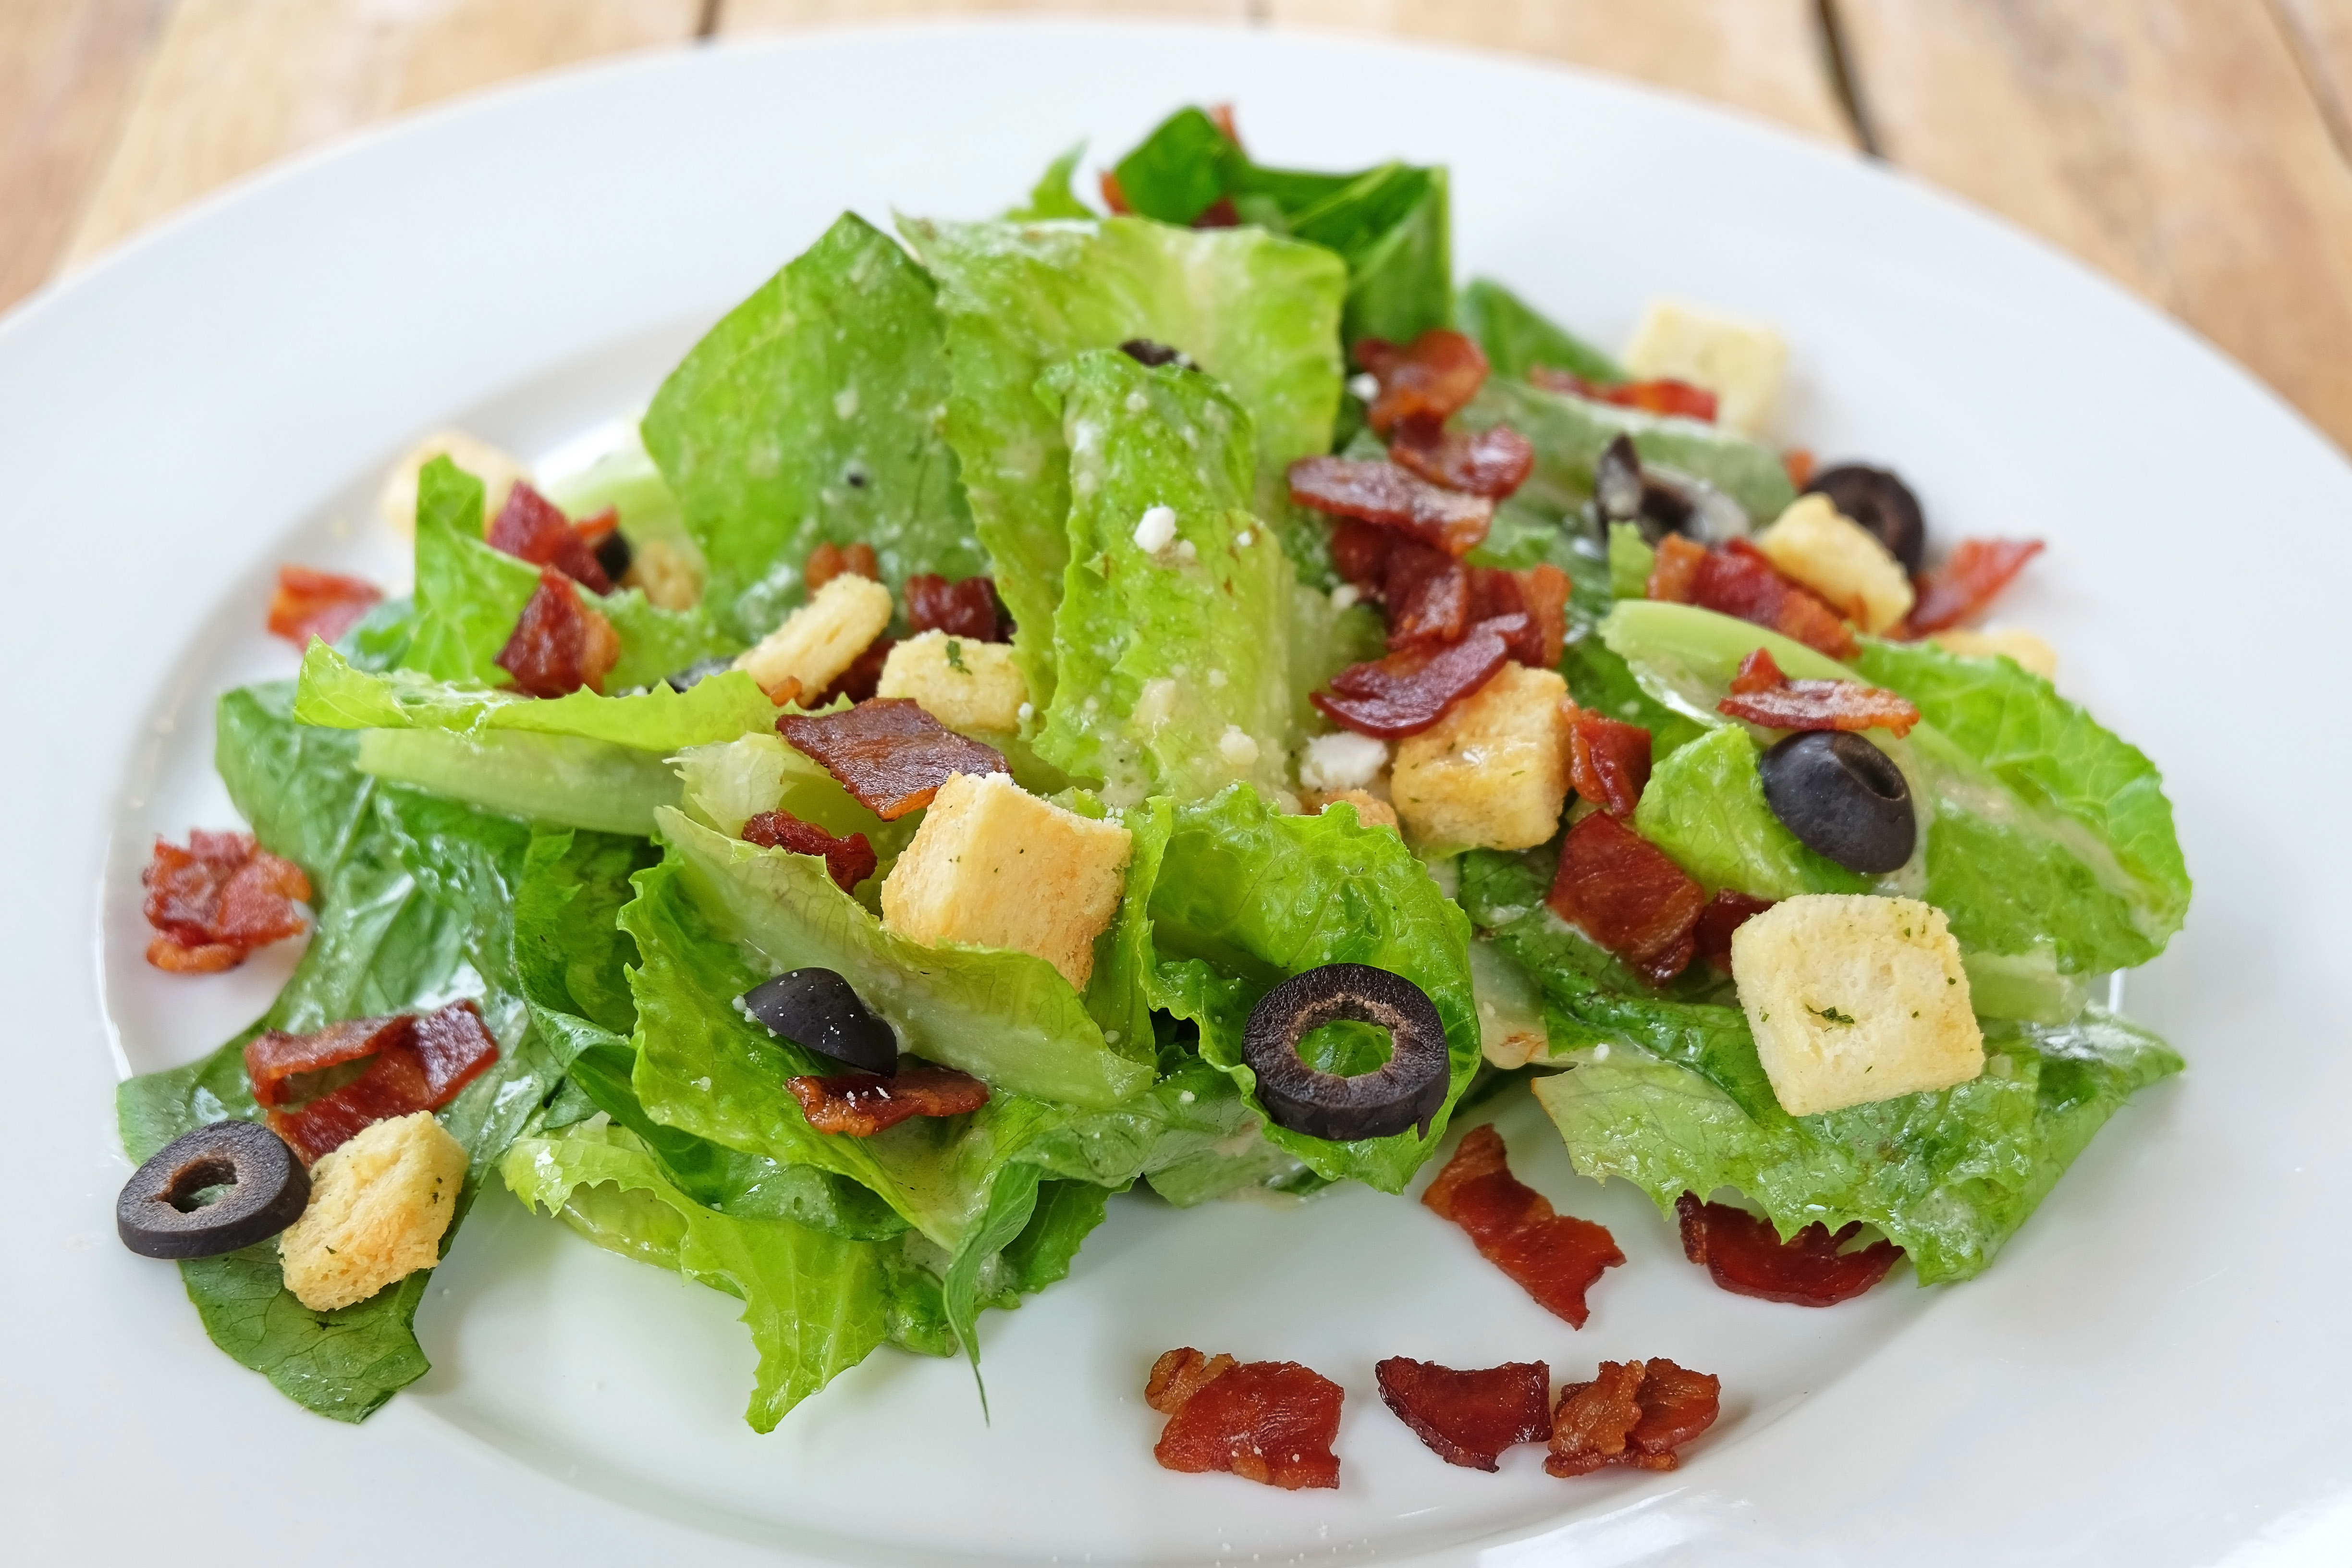chopped lettuce: (359, 814, 1248, 1354), (695, 243, 1529, 705)
